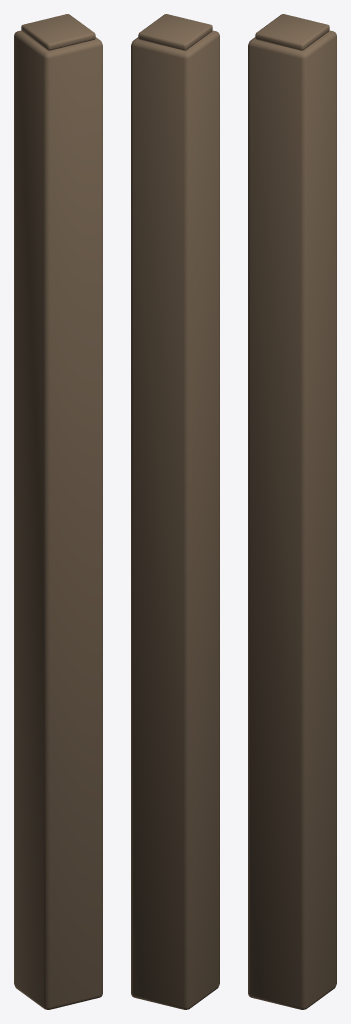
Rendered from sign_post_tall.glb.
3 renders of one model, left to right at view 1: azimuth 30°, elevation 25°; view 2: azimuth 150°, elevation 25°; view 3: azimuth 330°, elevation 25°, orthographic.
Parts seen in each view (by area): view 1: g_signpost; view 2: g_signpost; view 3: g_signpost.
Boxes of the visible parts, bbox=[...] form: g_signpost: bbox=[14, 14, 102, 1009]; g_signpost: bbox=[131, 14, 219, 1009]; g_signpost: bbox=[248, 14, 336, 1009].
Bounding box in the file's own units: 0.17 × 2.67 × 0.17.
